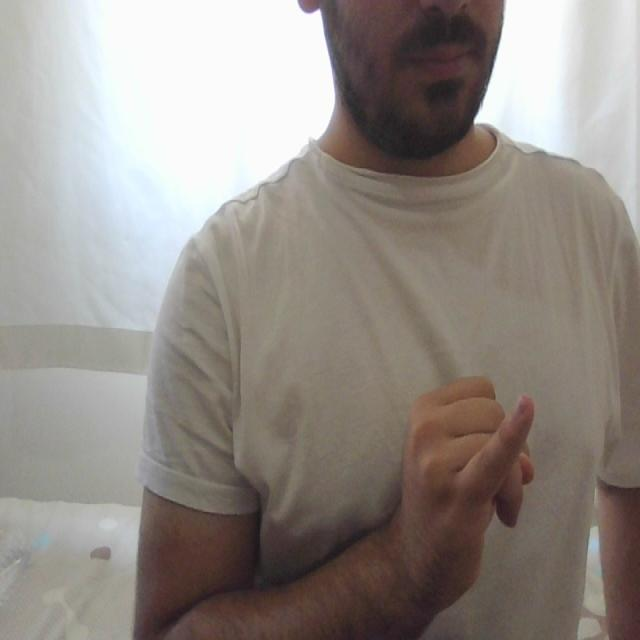kotu: (397, 362, 542, 554)
